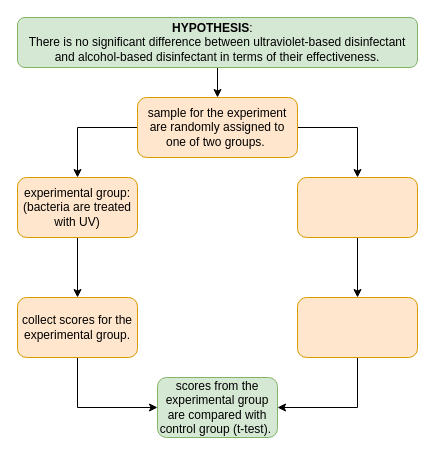
This 435x455 diagram has some shape labels left out. The centre of each missing label's shape, as x and y in pixels:
collect scores for the control group.: point (357, 327)
control group: (bacteria are treated with alcohol): point (357, 207)
